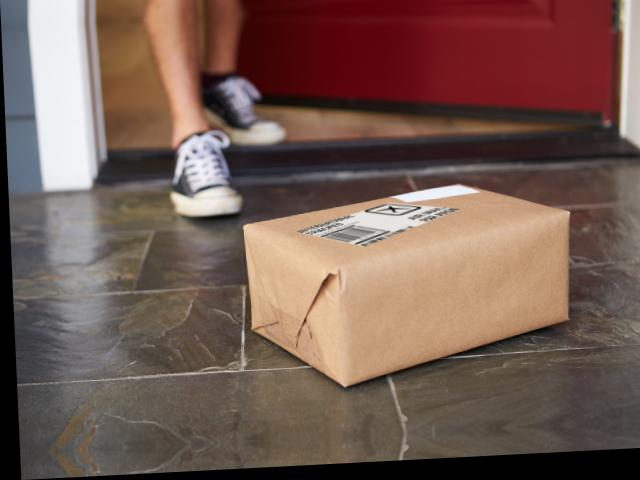label: (284, 194, 461, 252)
package: (223, 168, 589, 388)
